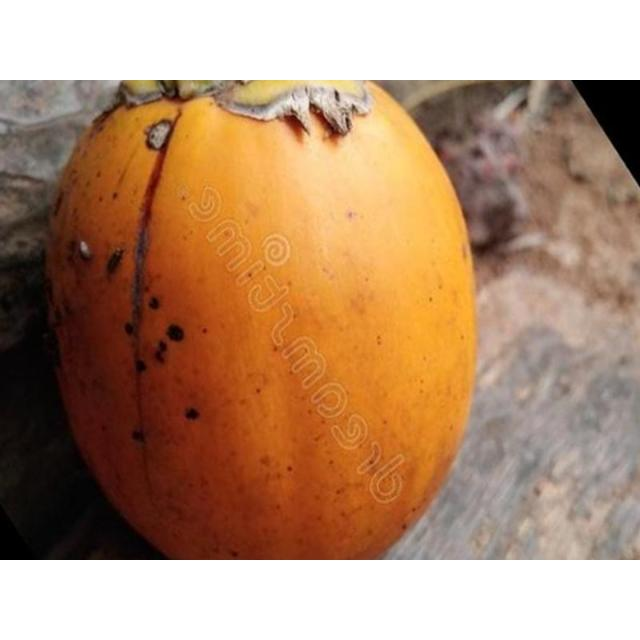good: (44, 80, 479, 559)
